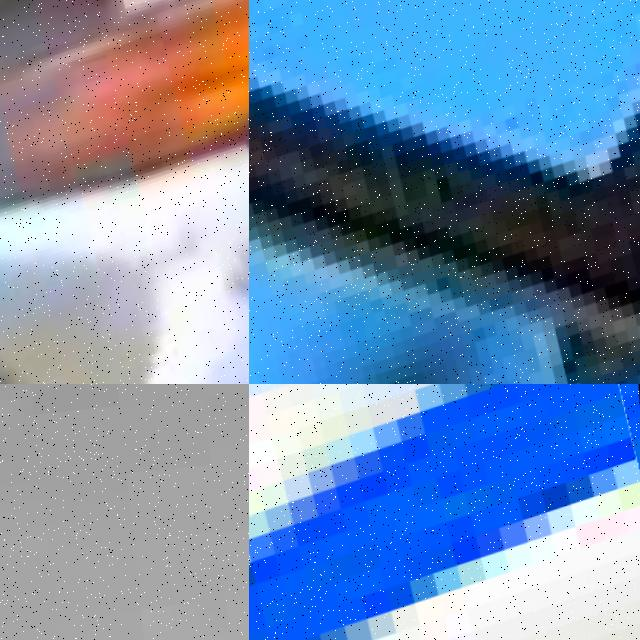drone: (249, 0, 640, 384), (249, 384, 640, 640), (0, 0, 249, 384)
